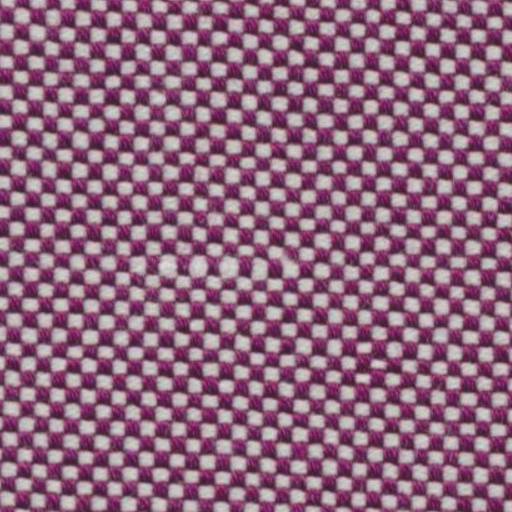DaiSha: (66, 242, 332, 294)
